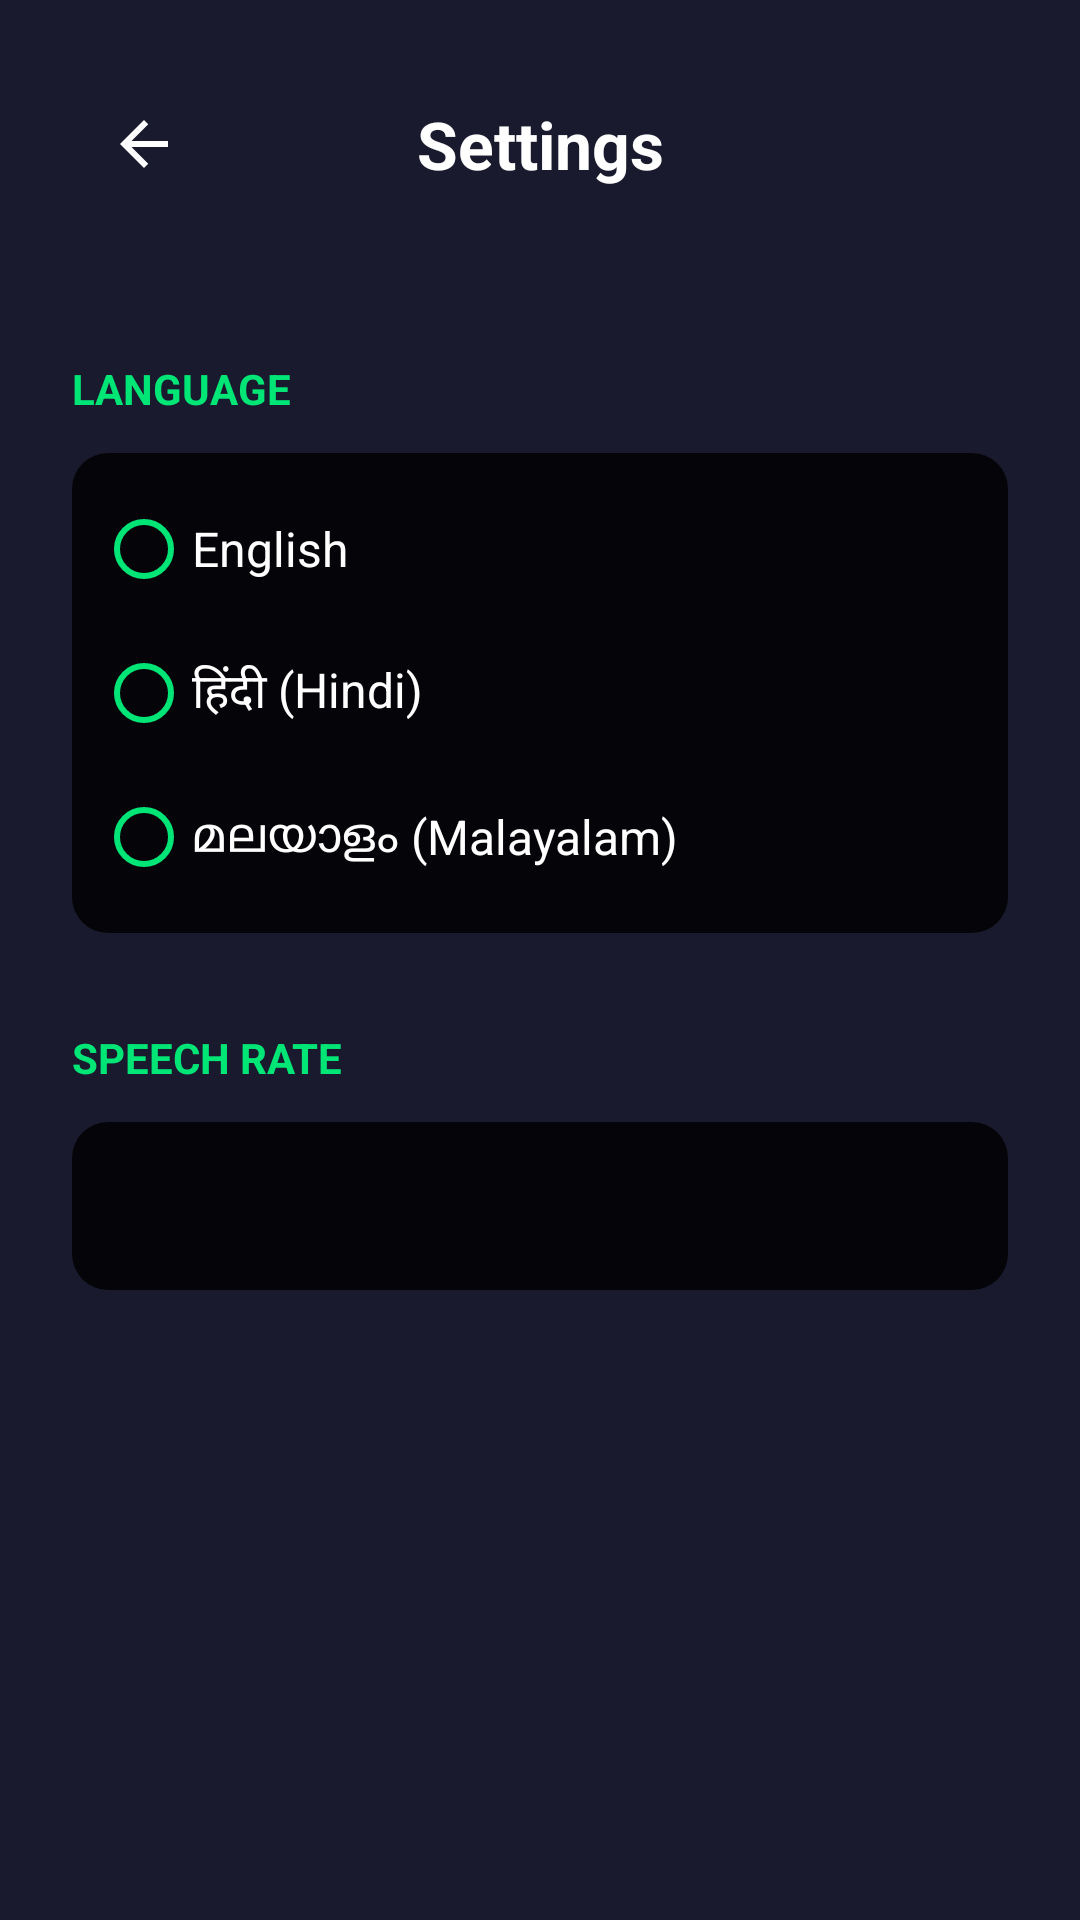

Locate icon controls on the screen. Image size 1080w x 1920h, boxes as rect(x1, y1, x2, y2).
Back: rect(120, 120, 168, 168)
